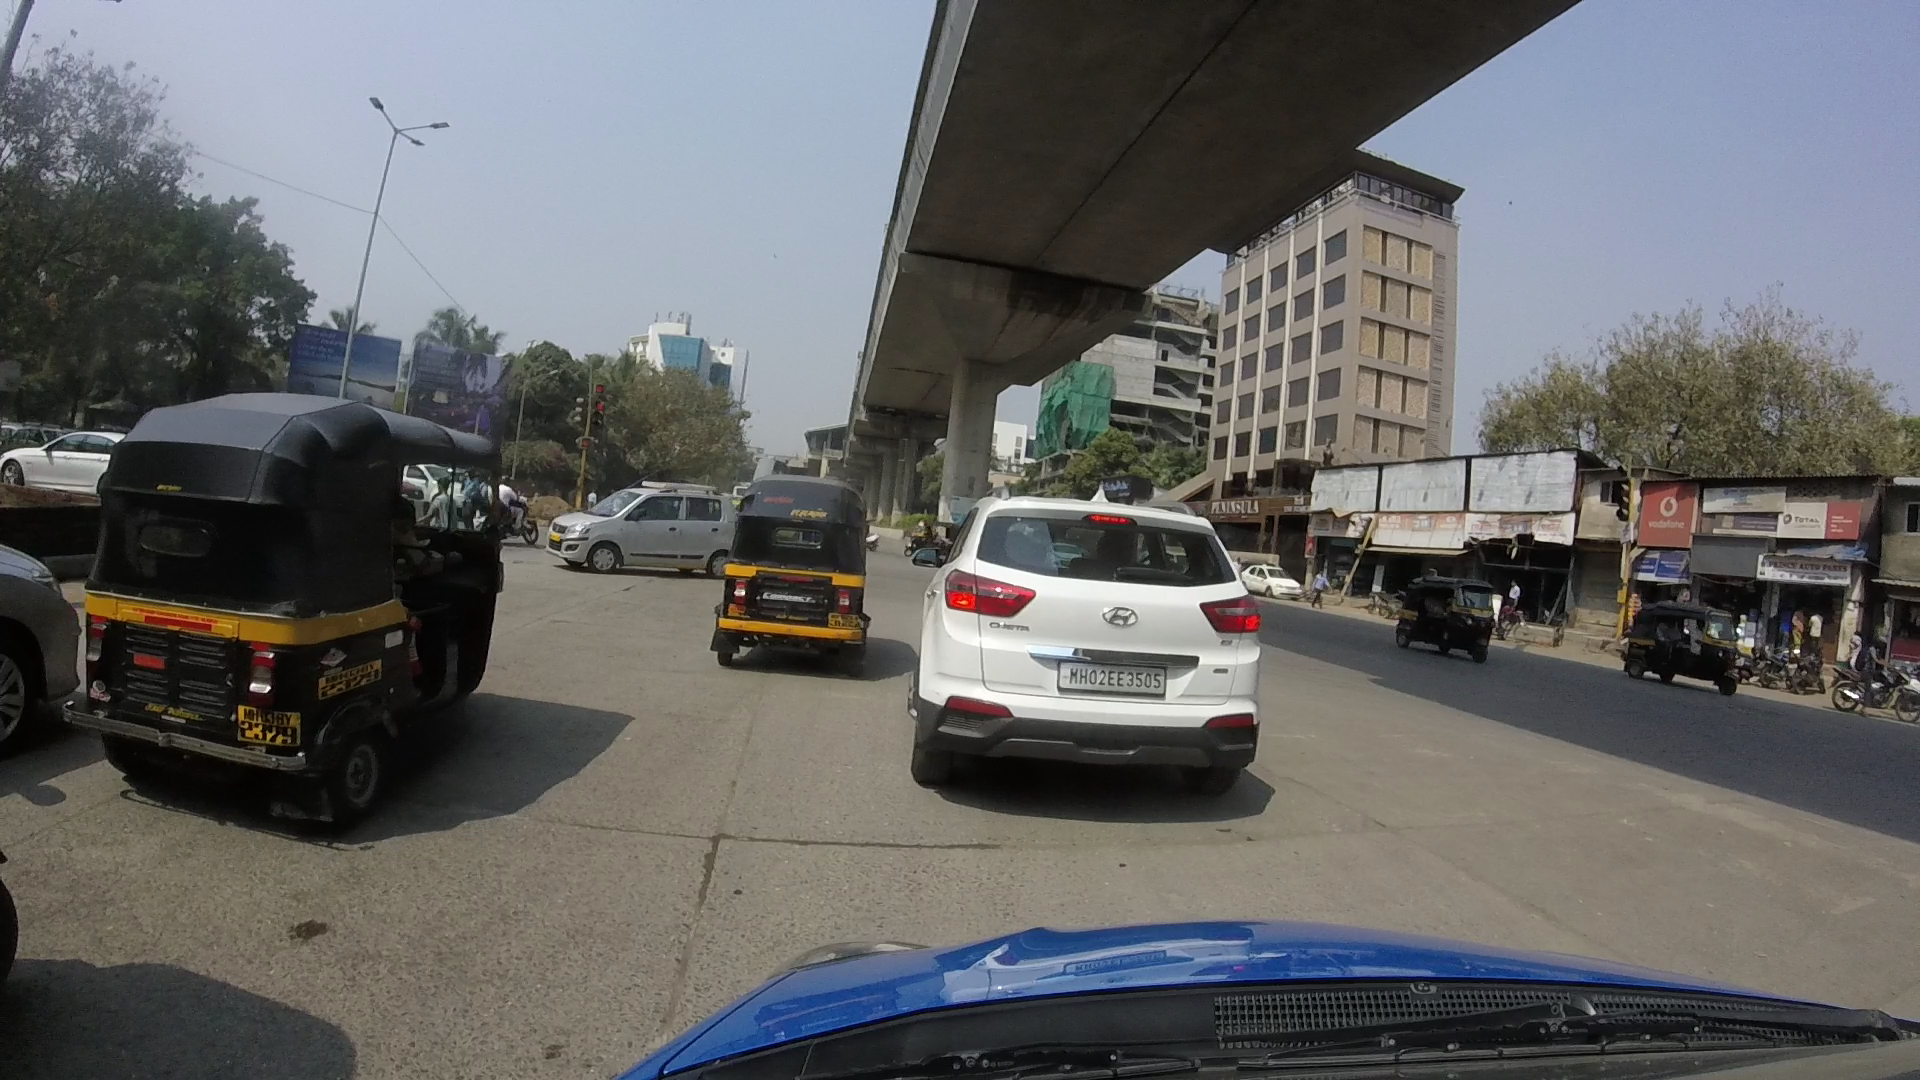car: (894, 446, 1302, 807), (547, 452, 764, 609), (1, 541, 83, 752)
rickshaw: (80, 373, 533, 829), (688, 462, 884, 694), (1597, 562, 1758, 712), (1371, 553, 1510, 680)
